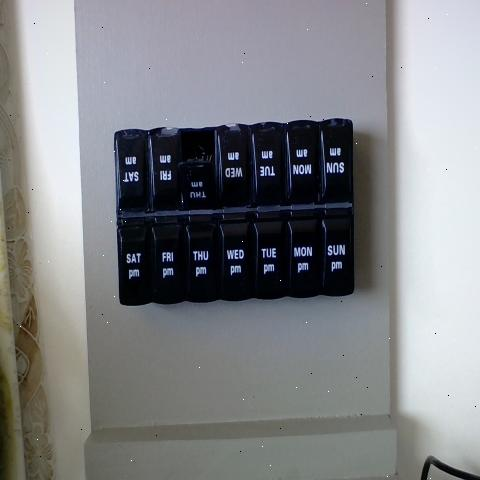FRI-am: (154, 131, 182, 210)
FRI-pm: (152, 216, 187, 302)
MON-am: (290, 124, 325, 204)
MON-pm: (290, 213, 324, 296)
Open: (180, 129, 218, 187)
PillBox: (101, 106, 379, 337)
SAT-am: (116, 132, 153, 210)
SAT-pm: (119, 221, 155, 304)
SUN-am: (321, 118, 354, 204)
SUN-pm: (324, 207, 355, 296)
THU-pm: (184, 221, 220, 299)
TUE-am: (256, 124, 287, 204)
TUE-pm: (255, 216, 286, 297)
WED-am: (223, 127, 255, 209), (219, 213, 251, 293)
